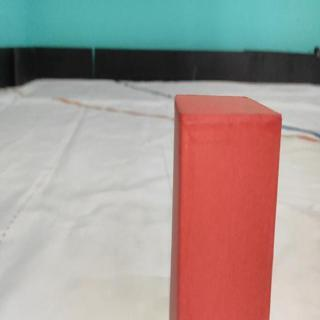redbox: (169, 93, 282, 320)
